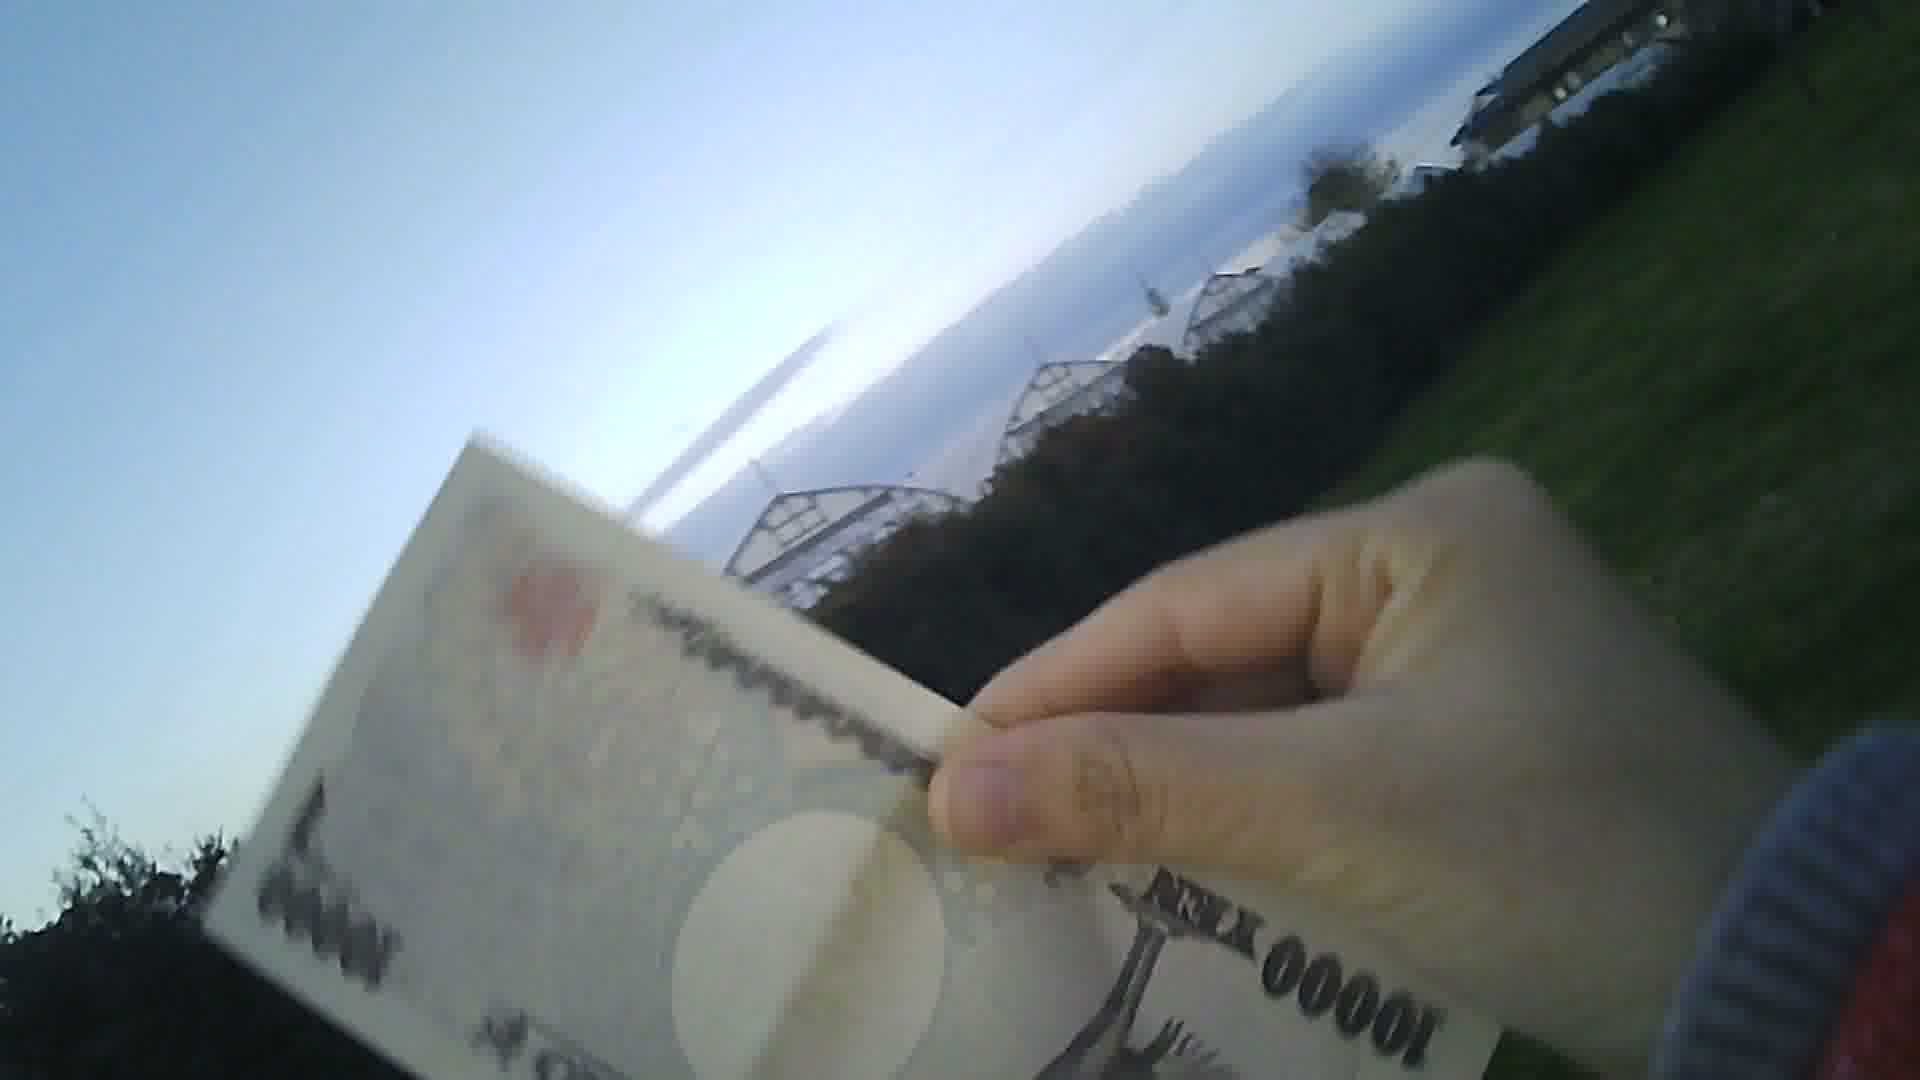10,000 Yen: (211, 415, 1507, 1079)
